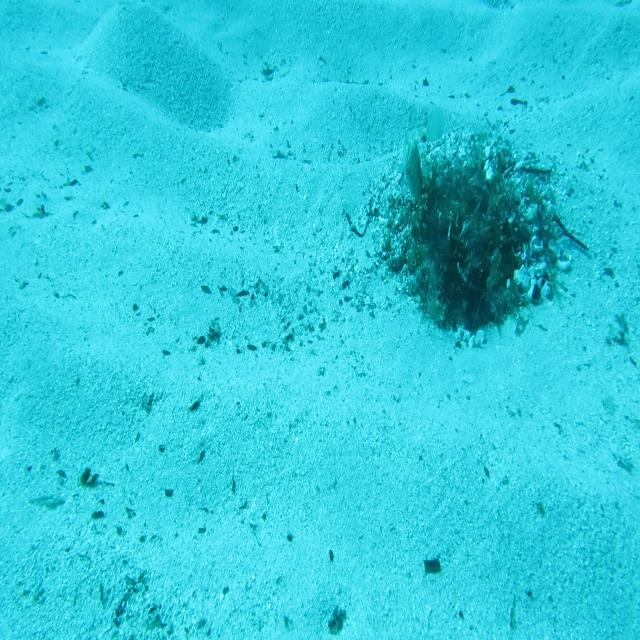NIP_IN: (398, 127, 428, 208)
core_nest: (444, 179, 504, 222)
nest: (364, 119, 578, 361)
